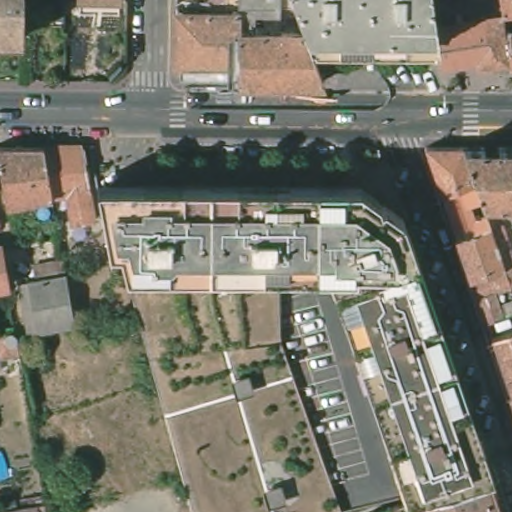pool: (1, 448, 17, 485), (34, 206, 51, 224)
